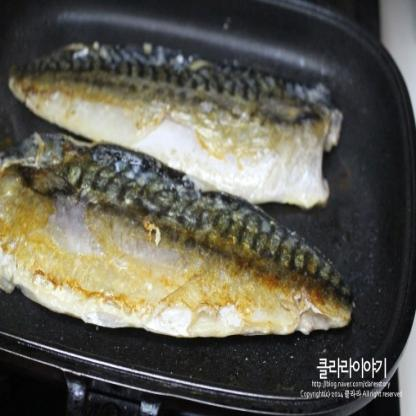Peixe: (0, 126, 363, 354), (13, 23, 362, 192)
